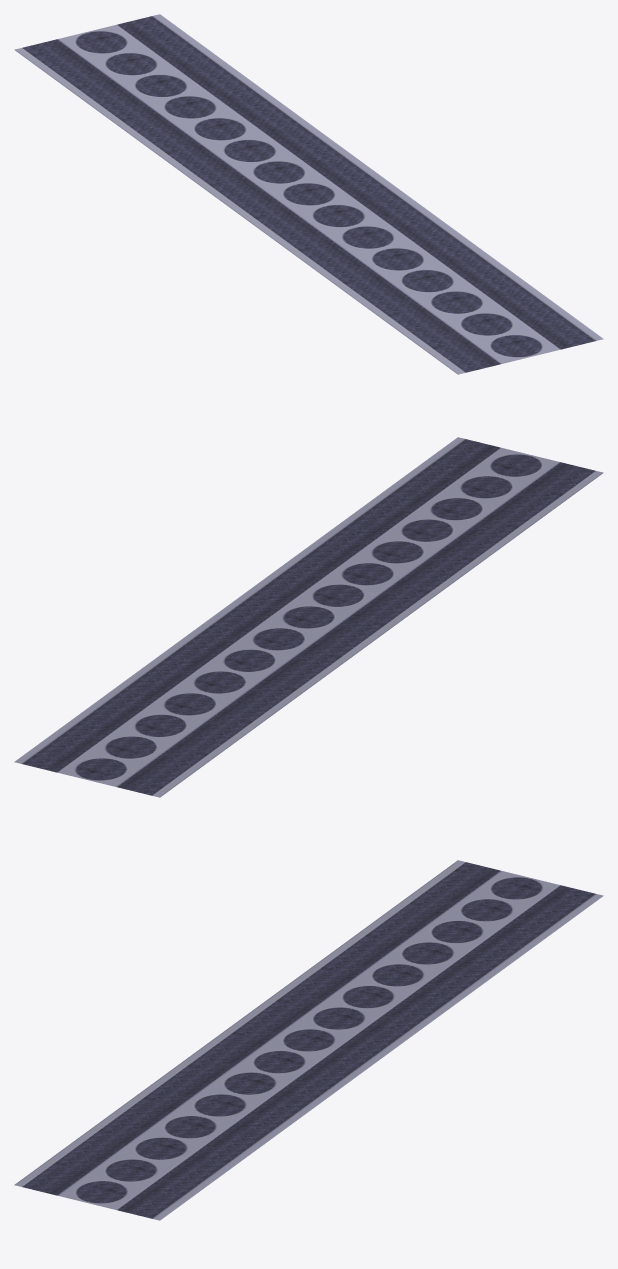
File: catwalk02.glb
3 renders of one model, top to bottom at view 1: azimuth 30°, elevation 25°; view 2: azimuth 150°, elevation 25°; view 3: azimuth 330°, elevation 25°, orthographic.
Parts seen in each view (by area): view 1: catwalk02; view 2: catwalk02; view 3: catwalk02.
Part boxes in pixels (x1,y1,x2,y2): catwalk02: (14,14,603,374); catwalk02: (14,437,603,797); catwalk02: (14,860,603,1220).
Bounding box in the file's own units: 271 × 92.11 × 1428.
Materials: 2 (2 with a texture image).
